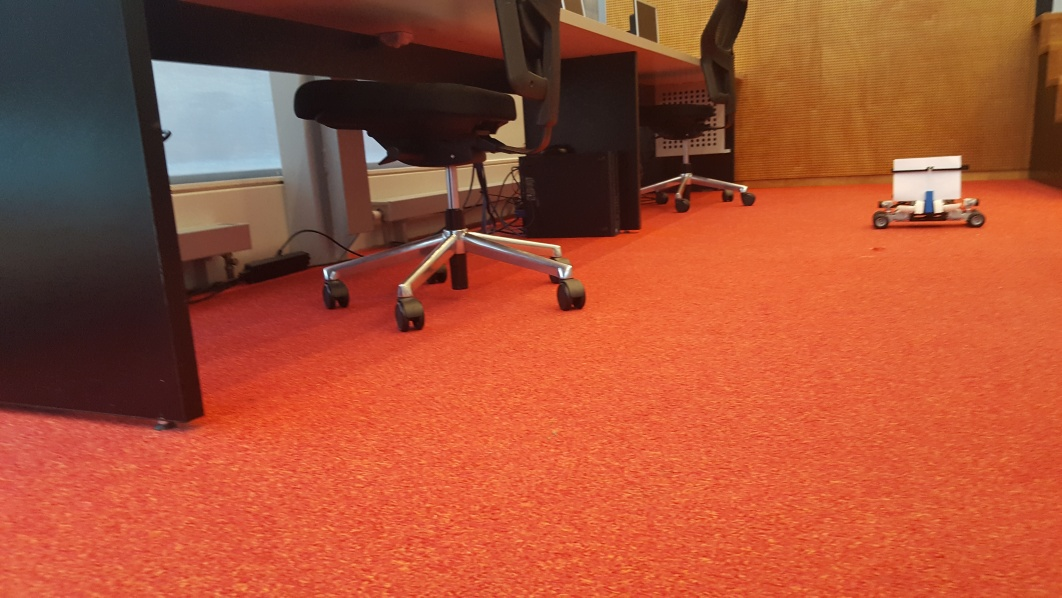car: (874, 154, 986, 231)
